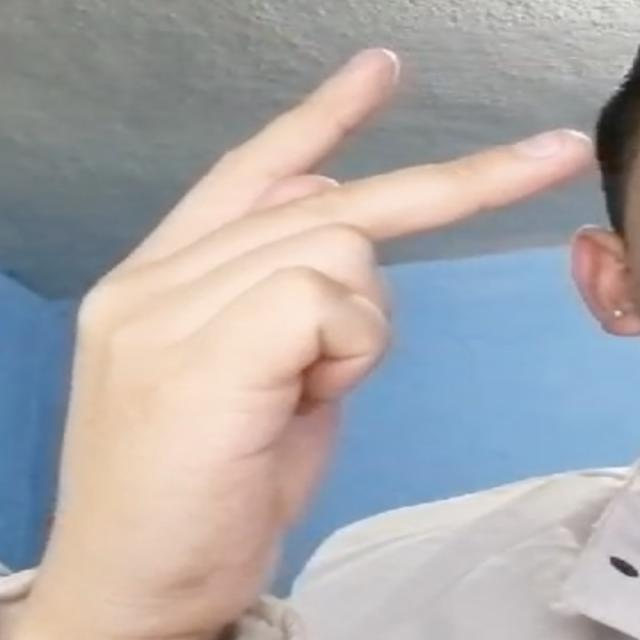K: (29, 45, 598, 624)
